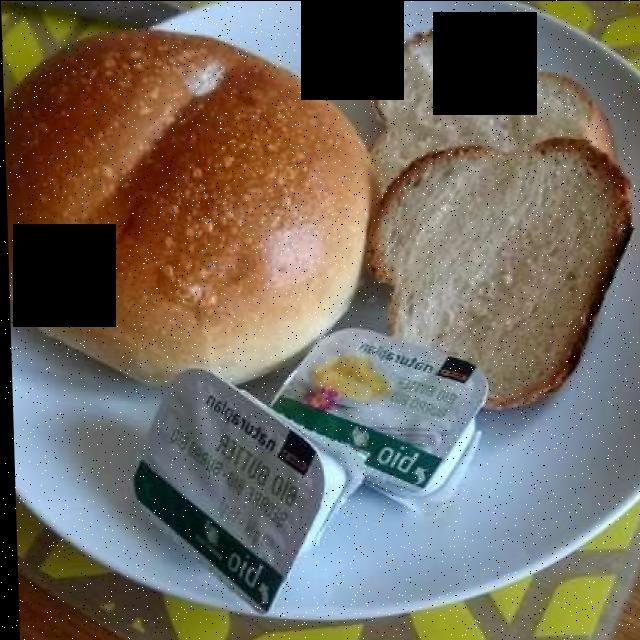bread: (8, 20, 622, 411)
